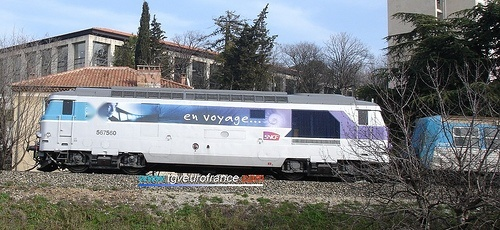train: (34, 84, 500, 184)
